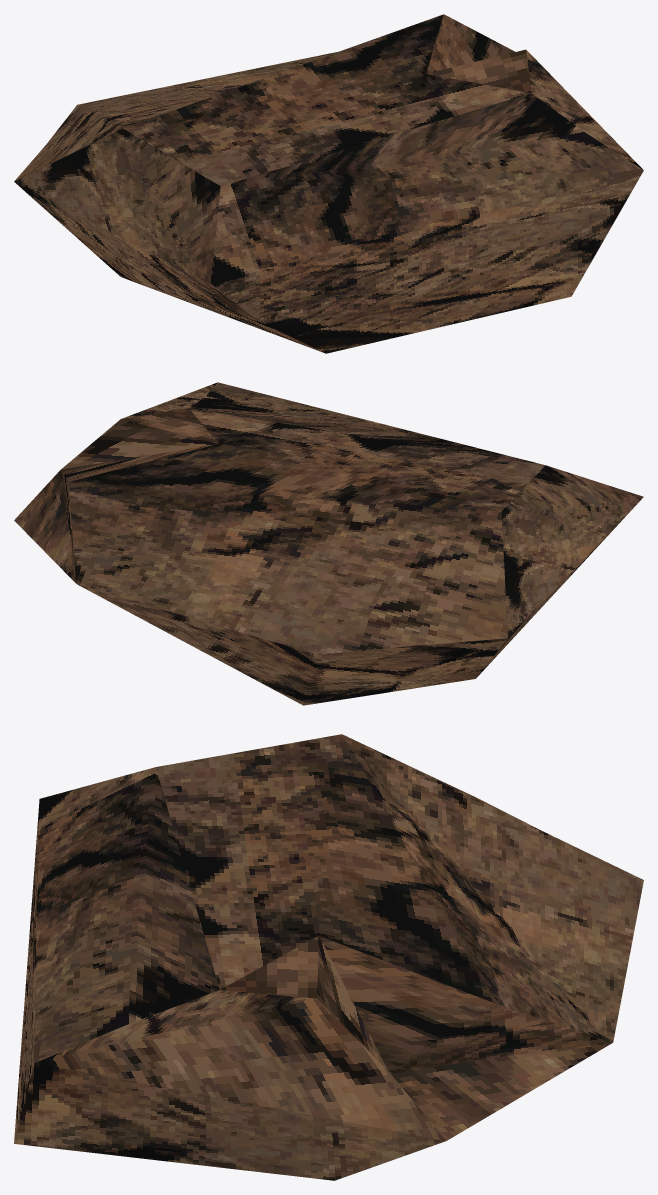
The model's file is stage-gran-p4-1.glb.
3 renders of one model, top to bottom at view 1: azimuth 30°, elevation 25°; view 2: azimuth 150°, elevation 25°; view 3: azimuth 270°, elevation 25°, orthographic. The views are drawn at different scales.
Size of the model in its own units: 20.67 by 6.27 by 16.9.
1 material, 1 textured.
